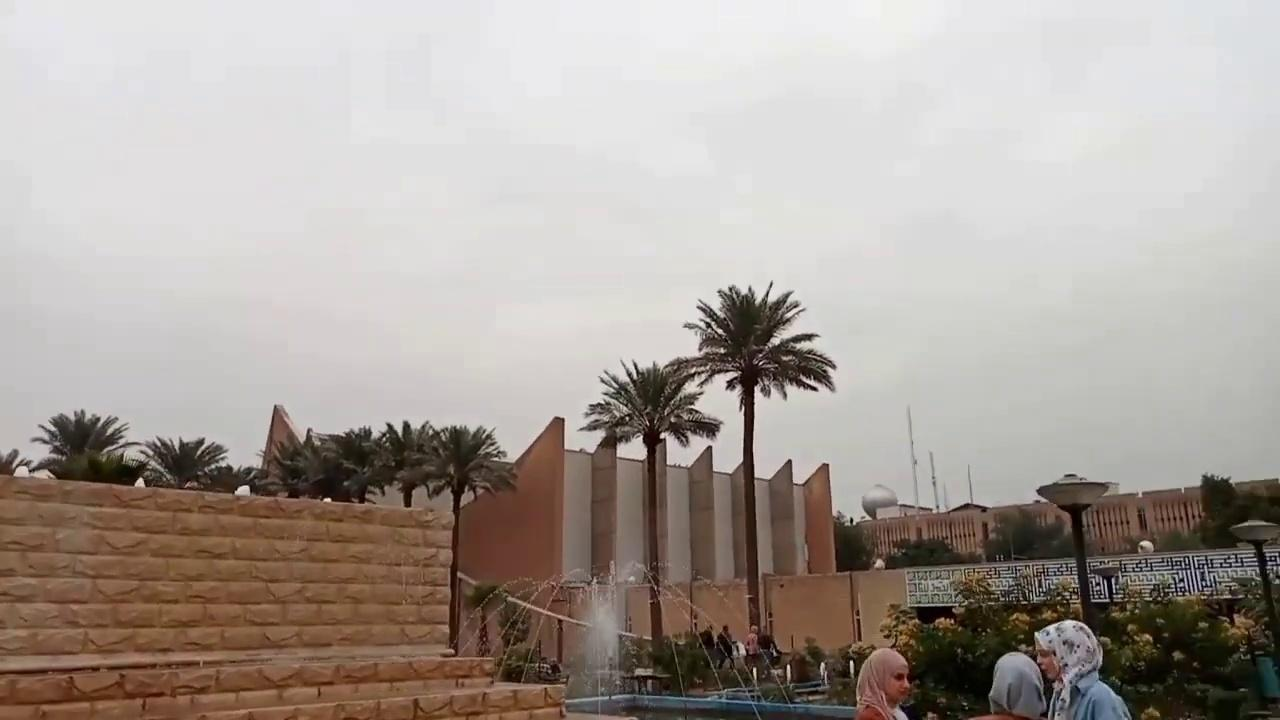fountain: (462, 556, 863, 718)
person: (1033, 619, 1133, 719), (853, 647, 911, 719), (987, 650, 1047, 719), (744, 624, 760, 683), (715, 624, 734, 671), (699, 624, 716, 666)
tree: (665, 279, 837, 640), (876, 569, 1279, 718), (577, 357, 722, 666), (407, 423, 517, 654), (29, 407, 135, 481), (264, 427, 346, 500), (373, 419, 438, 507), (323, 425, 390, 503), (137, 434, 228, 488), (1196, 471, 1239, 547), (256, 435, 308, 497), (878, 600, 921, 658), (208, 461, 263, 493), (0, 447, 31, 476)
